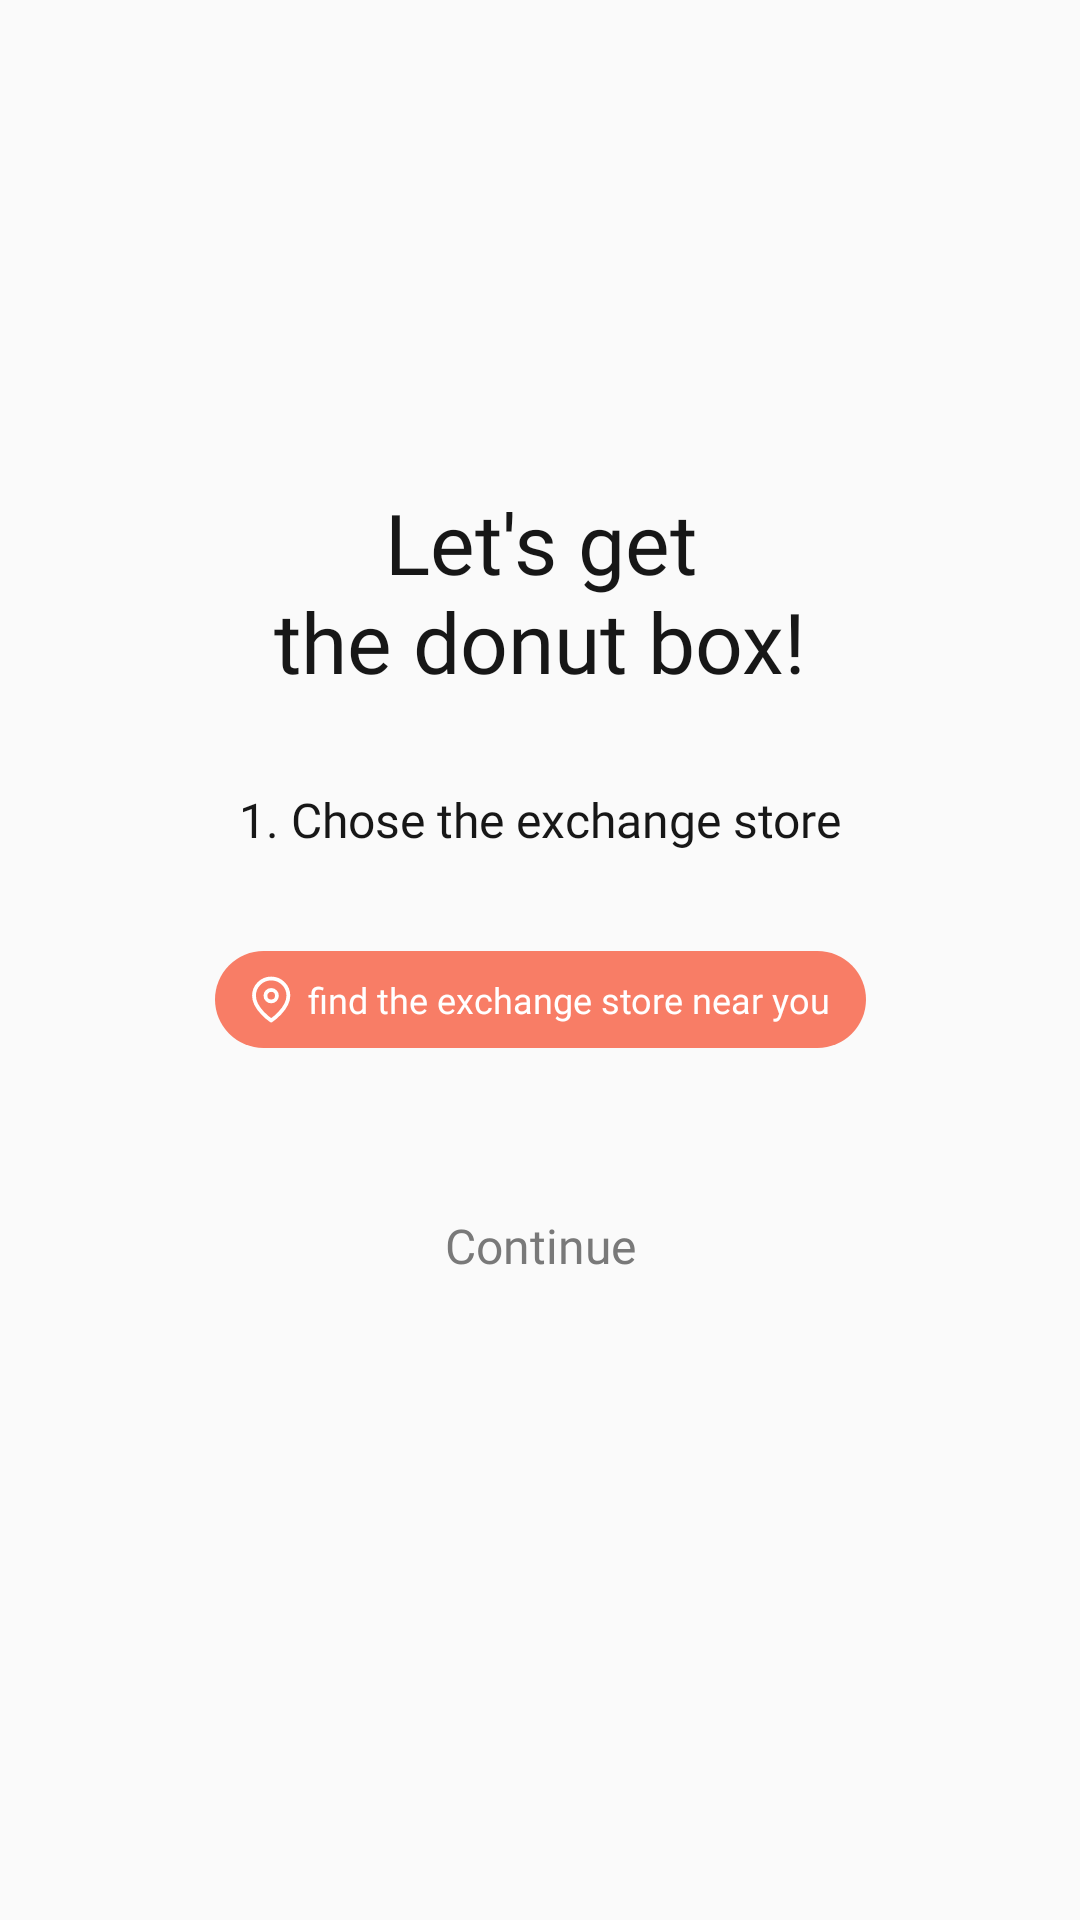

Icons on this 1080x1920 Android screen, each with the point to tap as point (x, y):
pin: point (271, 999)
